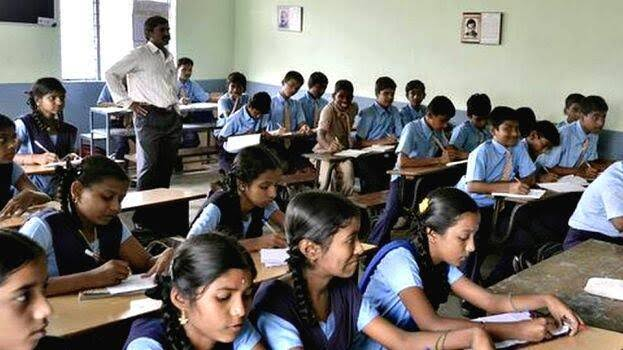student: (163, 232, 262, 341), (280, 199, 370, 282), (1, 220, 49, 343), (419, 180, 487, 265), (66, 157, 132, 228), (229, 147, 292, 213), (32, 80, 69, 120), (484, 108, 518, 150), (421, 95, 456, 134), (575, 99, 607, 141), (530, 118, 559, 158), (242, 85, 273, 120), (462, 89, 489, 128), (1, 114, 20, 164), (332, 78, 358, 113), (373, 79, 398, 111), (307, 69, 329, 102), (227, 68, 249, 100), (175, 50, 194, 84), (406, 80, 426, 109), (282, 71, 300, 100)
